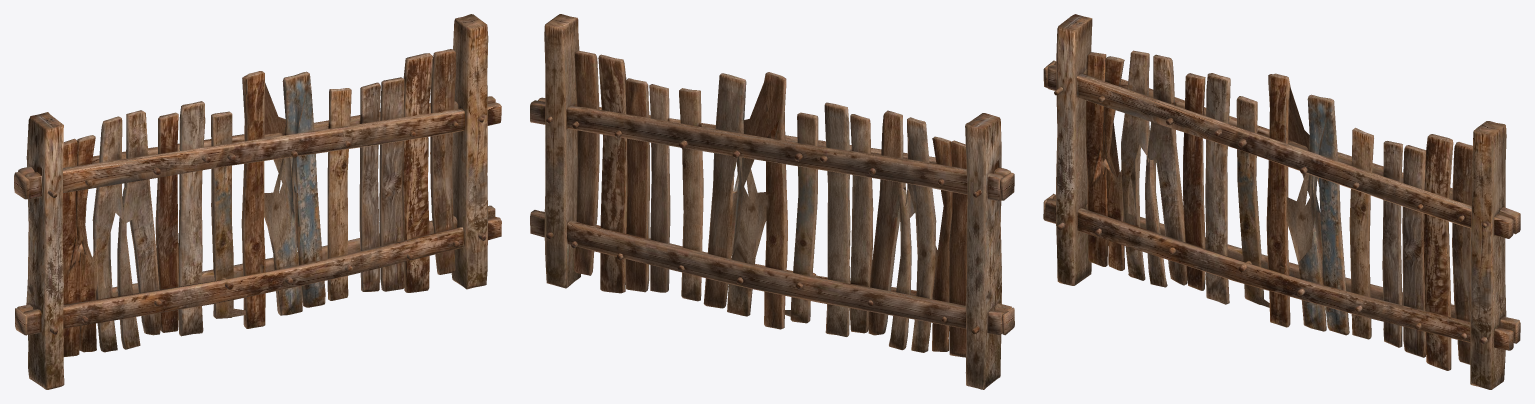
File: plank_fence.glb
The picture shows the model from 3 angles, left to right: view 1: azimuth 30°, elevation 25°; view 2: azimuth 150°, elevation 25°; view 3: azimuth 330°, elevation 25°; orthographic projection.
Visible parts, largest first — view 1: Mesh0; view 2: Mesh0; view 3: Mesh0.
Boxes of the visible parts, x1,y1,x2,y2 form: Mesh0: (14, 14, 501, 389); Mesh0: (530, 14, 1014, 389); Mesh0: (1043, 14, 1520, 389).
Bounding box in the file's own units: 1 × 0.5345 × 0.1004.
Materials: 1 (1 with a texture image).
